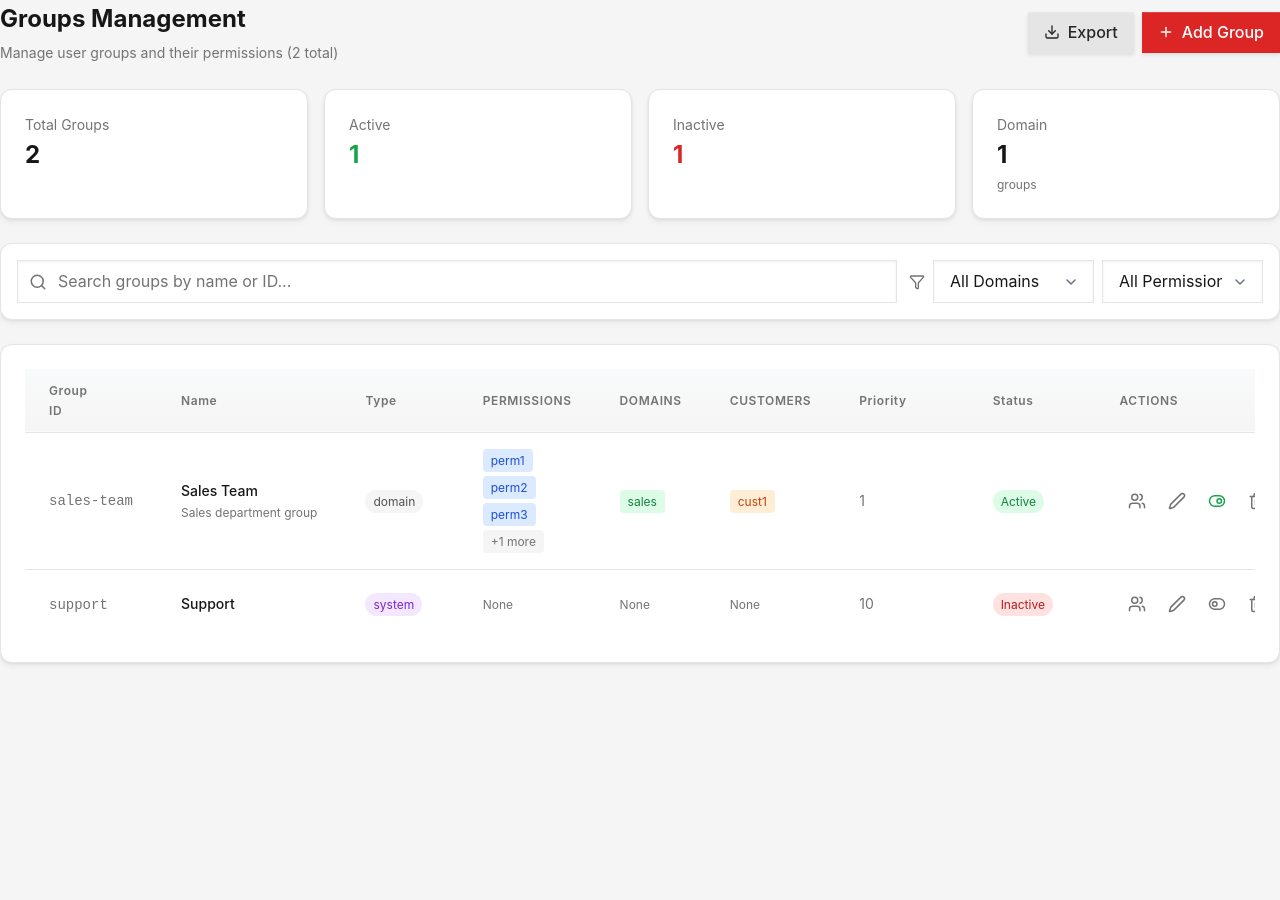
Test: GroupsManagement › opens create modal on Add Group click
Expected: the text "Sales Team" is shown, left=181, top=482, right=258, bottom=499
Step 1. Click the button "Add Group" → (1211,32), box left=1142, top=12, right=1279, bottom=53
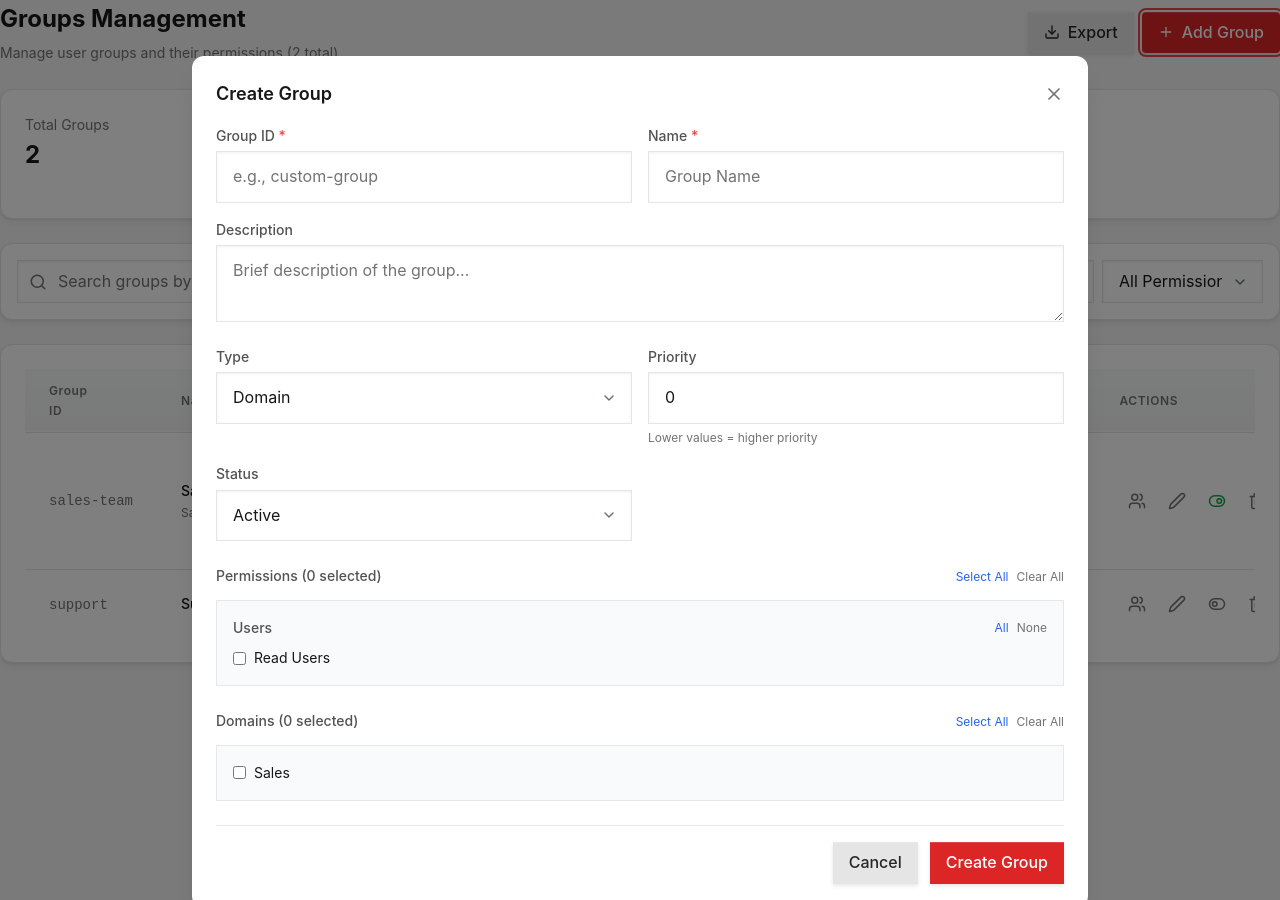
Expected: the heading "Create Group" is shown, left=216, top=80, right=332, bottom=109
